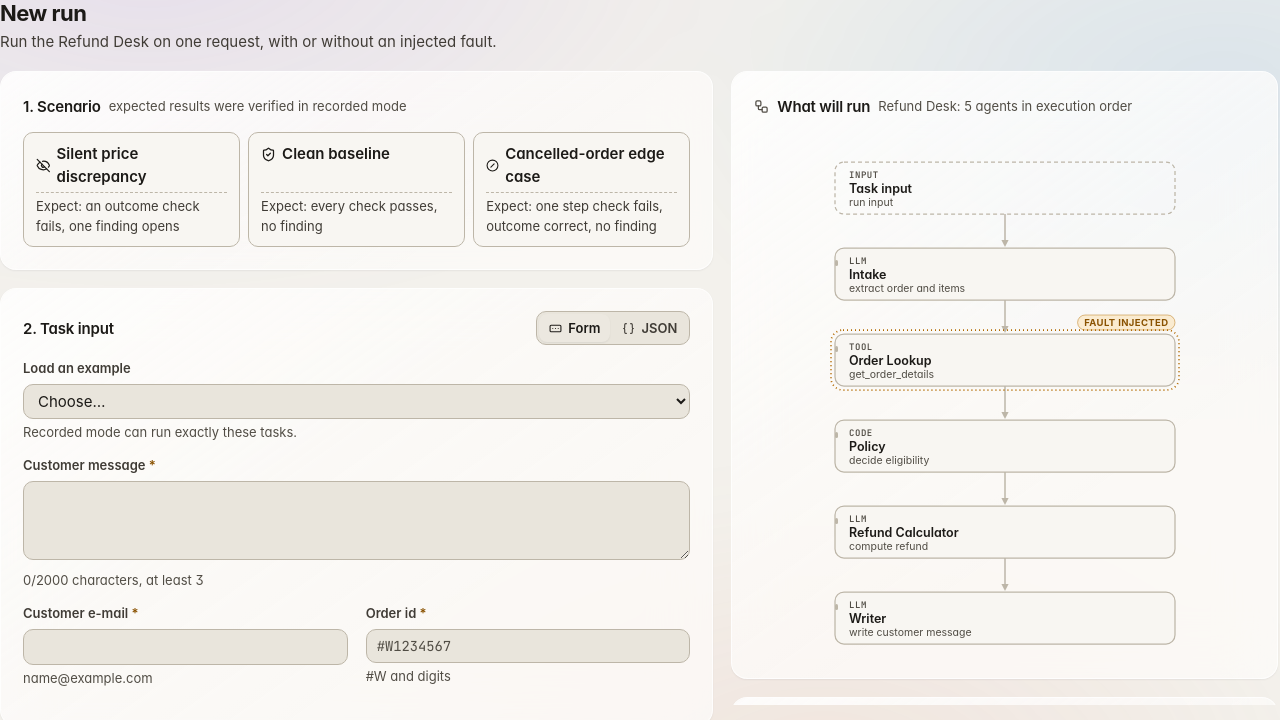
Task Studio validation › stops an invalid task before any request, marks each field and moves focus to the first one
Check: the radio button labelled "Silent price discrepancy" is shown, box [23, 132, 240, 247]
Step 1. Type "hi" into the text box labelled "Customer message" → x=357, y=520, box [23, 481, 690, 560]
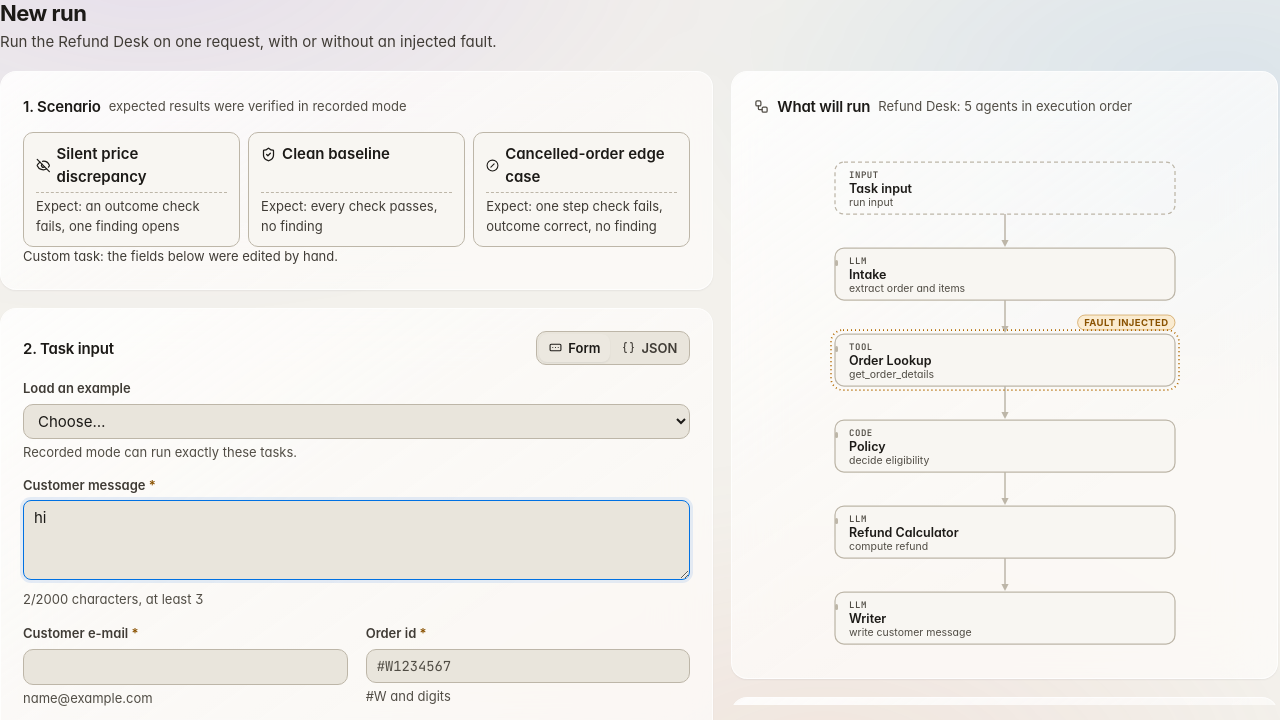
Step 2. Type "12" into the field labelled "Order id" → x=528, y=665, box [366, 648, 690, 683]
(page scrolled)
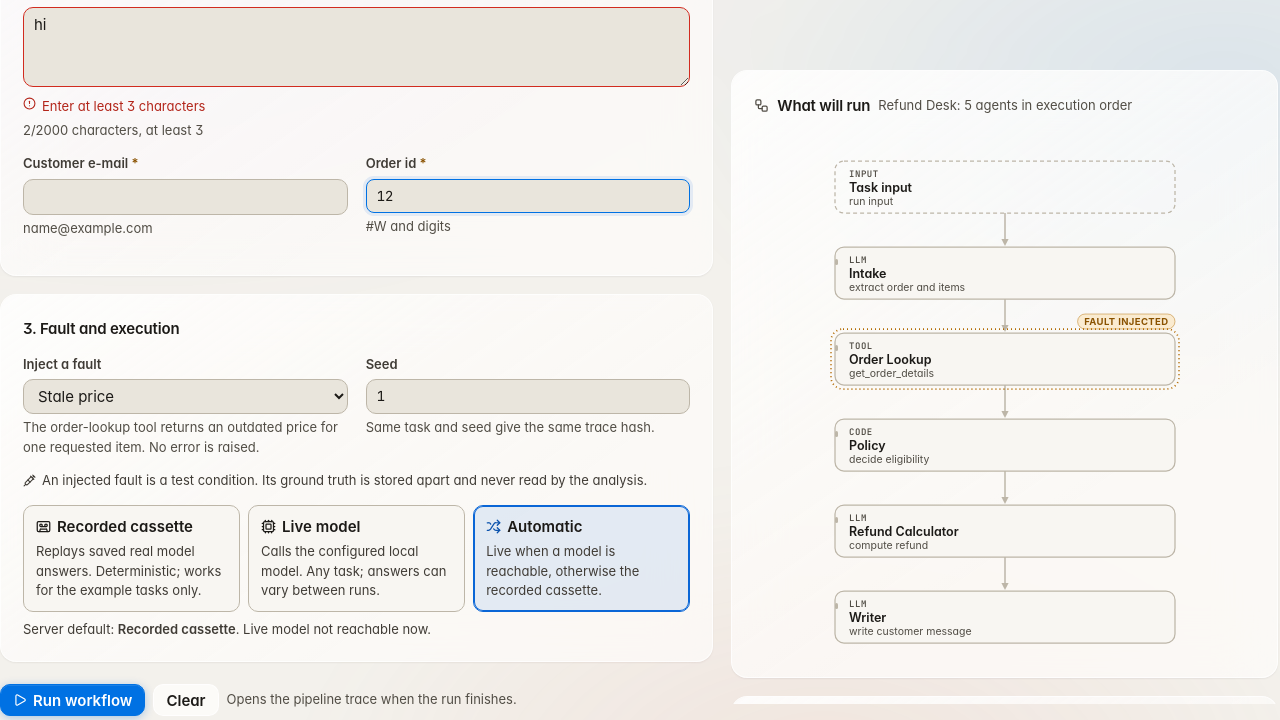
Step 3. Click the button "Run workflow" → x=73, y=700, box [0, 684, 145, 716]
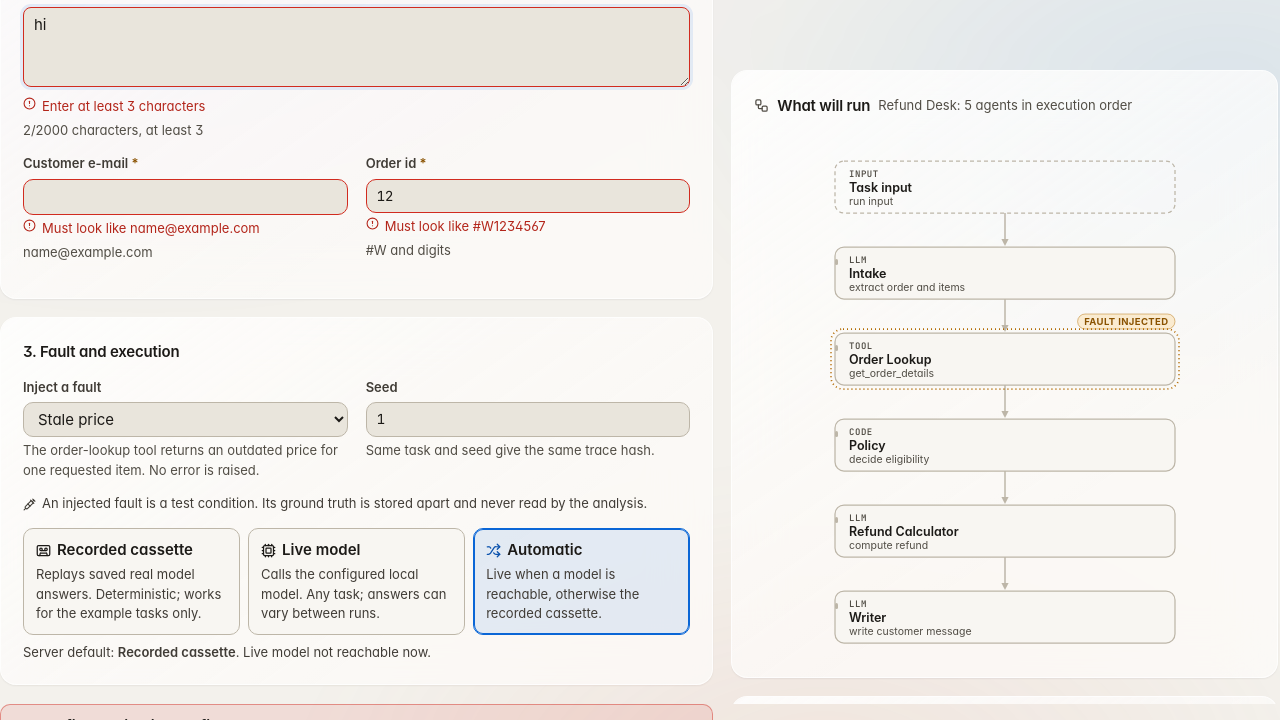
Check: the text "Enter at least 3 characters" is shown, box [23, 97, 205, 114]
Check: the text "Must look like #W1234567" is shown, box [366, 217, 546, 234]
